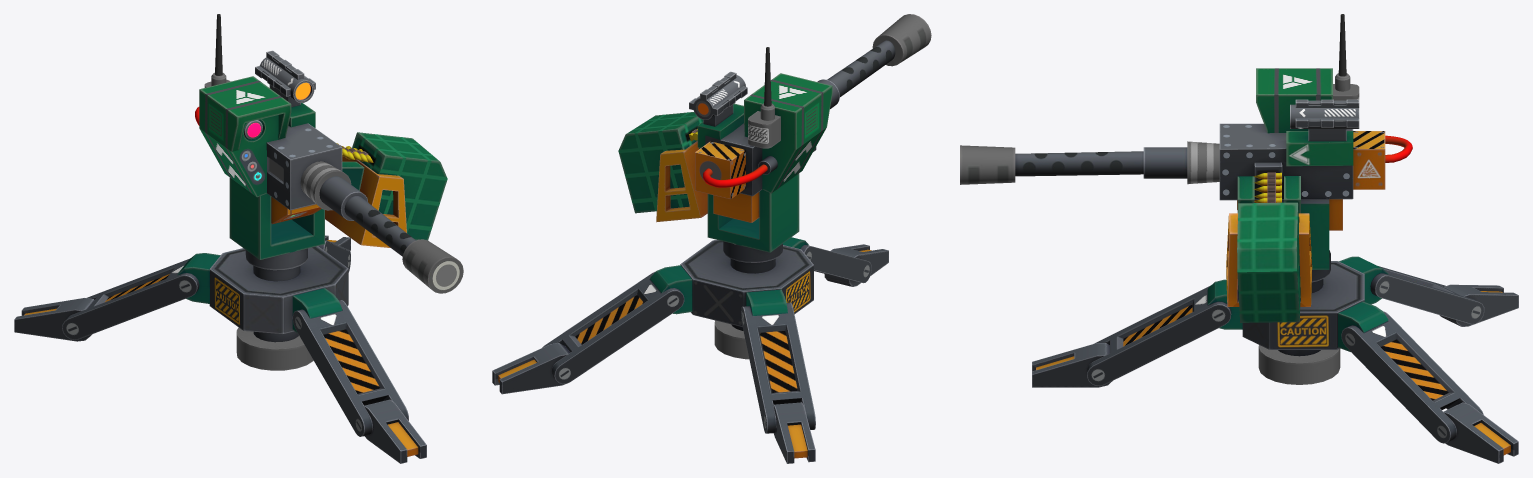
File: one_shot_boss_final__turet.glb
3 views of the same model, side by side, from view 1: azimuth 30°, elevation 25°; view 2: azimuth 150°, elevation 25°; view 3: azimuth 270°, elevation 25° (orthographic). The views are drawn at different scales.
Parts seen in each view (by area): view 1: Object_2; view 2: Object_2; view 3: Object_2.
Boxes of the visible parts, x1,y1,x2,y2 form: Object_2: [14, 14, 463, 463]; Object_2: [492, 14, 931, 463]; Object_2: [960, 14, 1518, 463].
Bounding box in the file's own units: 227 × 221 × 324.
1 material, 1 textured.
